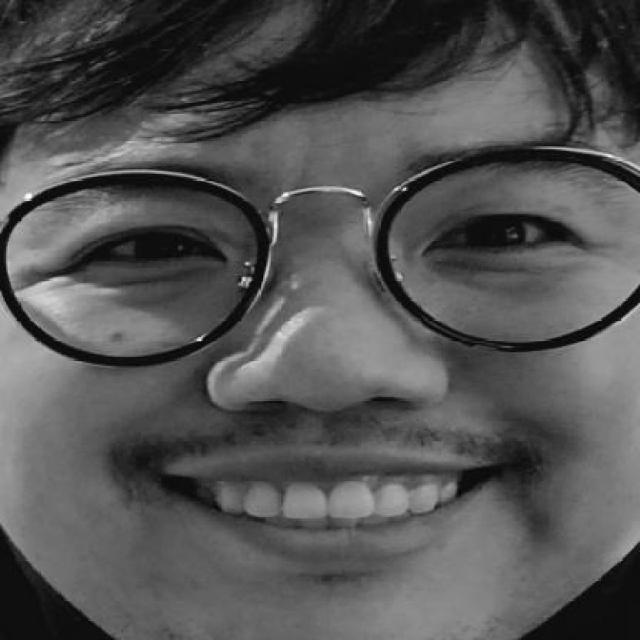happy: (39, 140, 623, 585)
